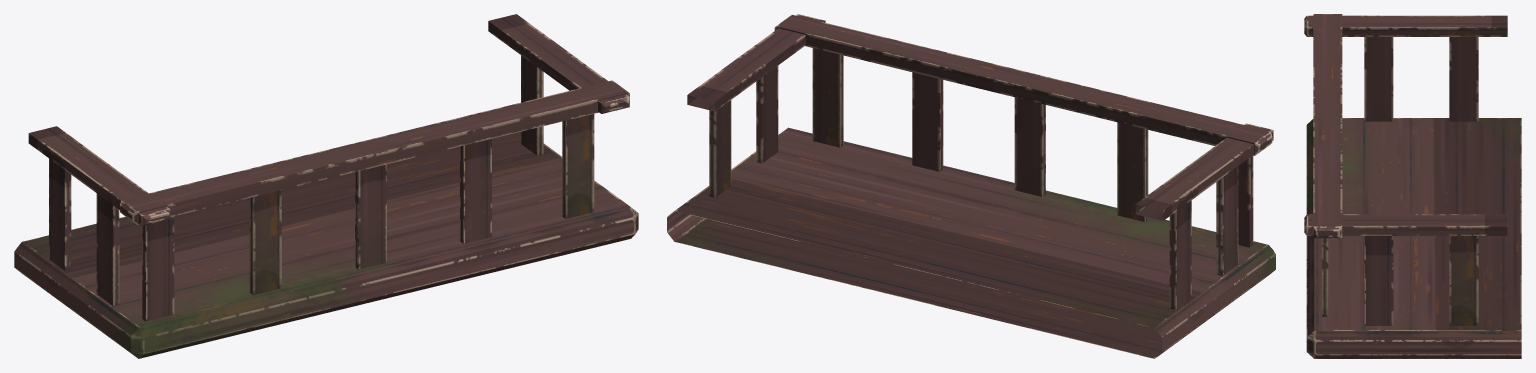
The model's file is Balcony_2.fbx.
3 renders of one model, left to right at view 1: azimuth 30°, elevation 25°; view 2: azimuth 150°, elevation 25°; view 3: azimuth 270°, elevation 25°, orthographic. The views are drawn at different scales.
Parts seen in each view (by area): view 1: pCube65; view 2: pCube65; view 3: pCube65.
Boxes of the visible parts, bbox=[...] form: pCube65: bbox=[14, 14, 638, 358]; pCube65: bbox=[667, 14, 1275, 358]; pCube65: bbox=[1304, 14, 1521, 358].
Size of the model in its own units: 240 by 66.7 by 100.
